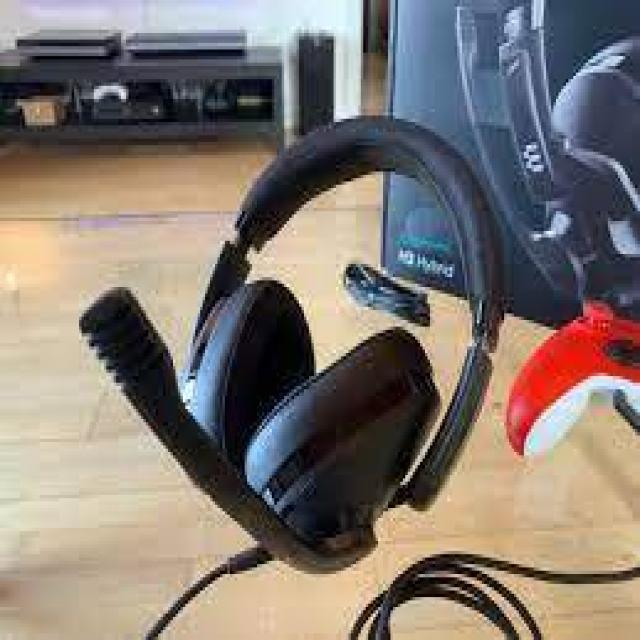headset: (74, 111, 513, 576)
